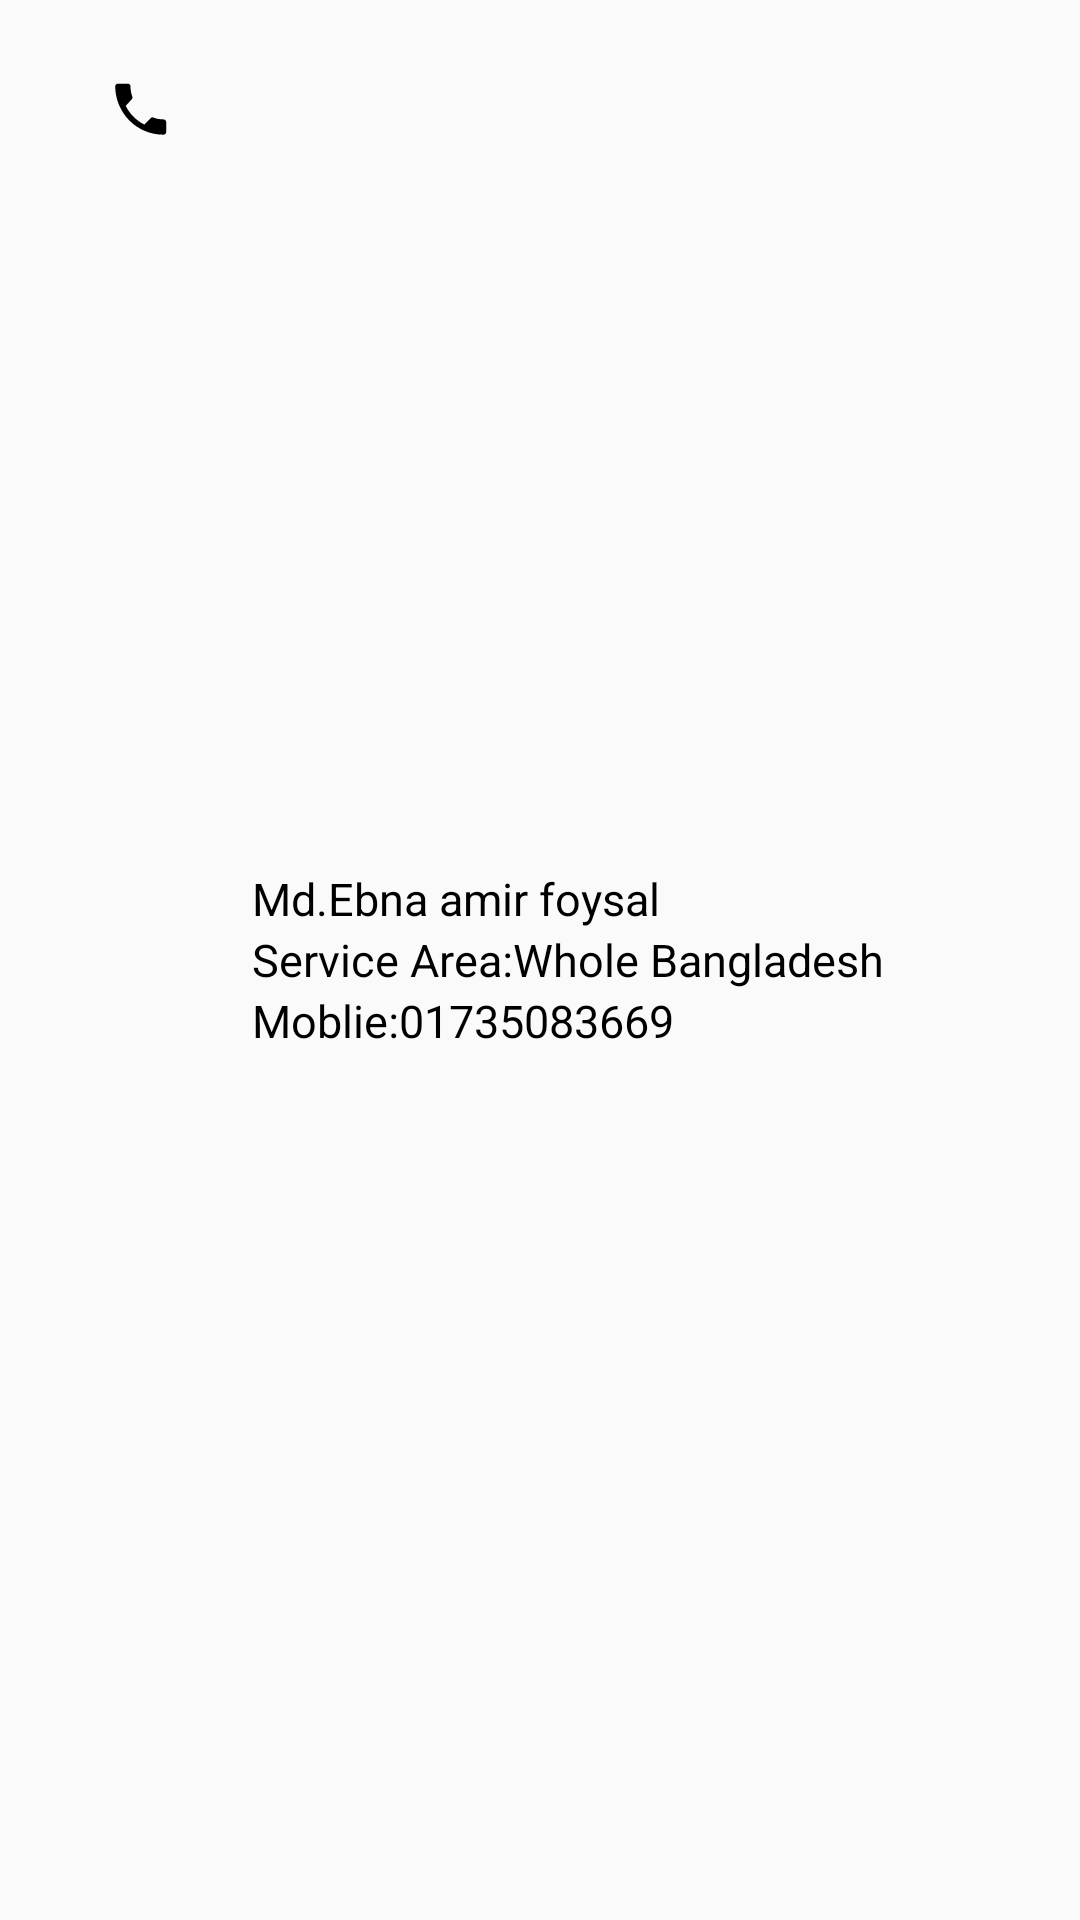

Named icons in this screenshot (1080*1920) and their centers, point (x, y):
call: point (141, 109)
